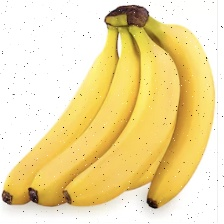banana: (27, 0, 206, 199)
